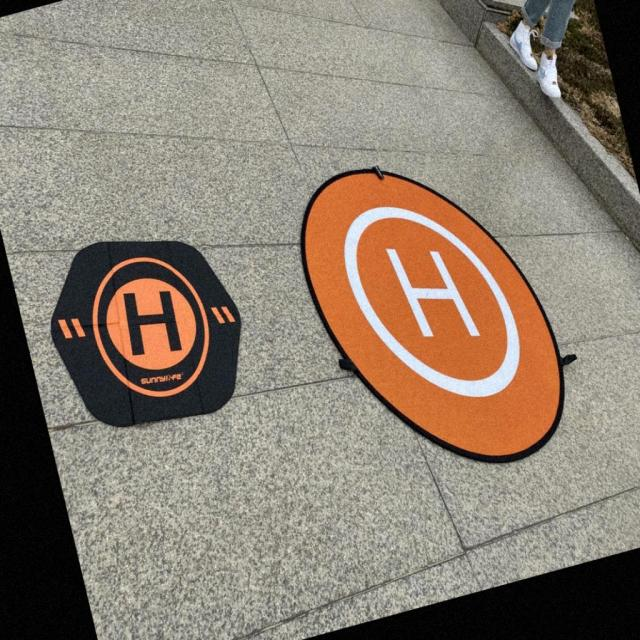helipad: (338, 198, 525, 400), (89, 252, 212, 400)
